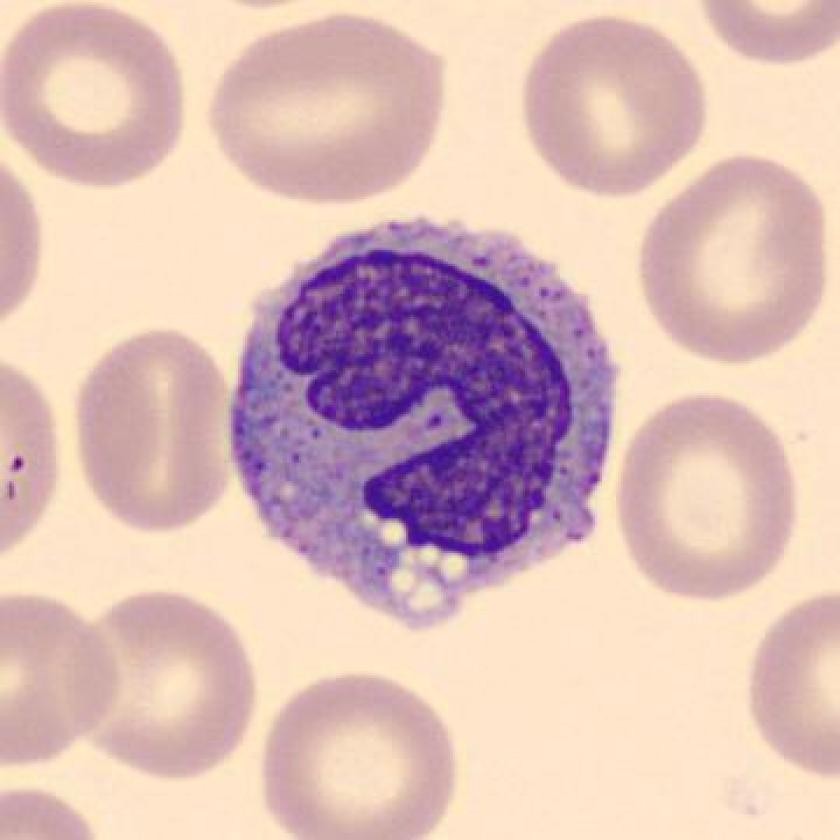monocyte: (207, 196, 648, 645)
